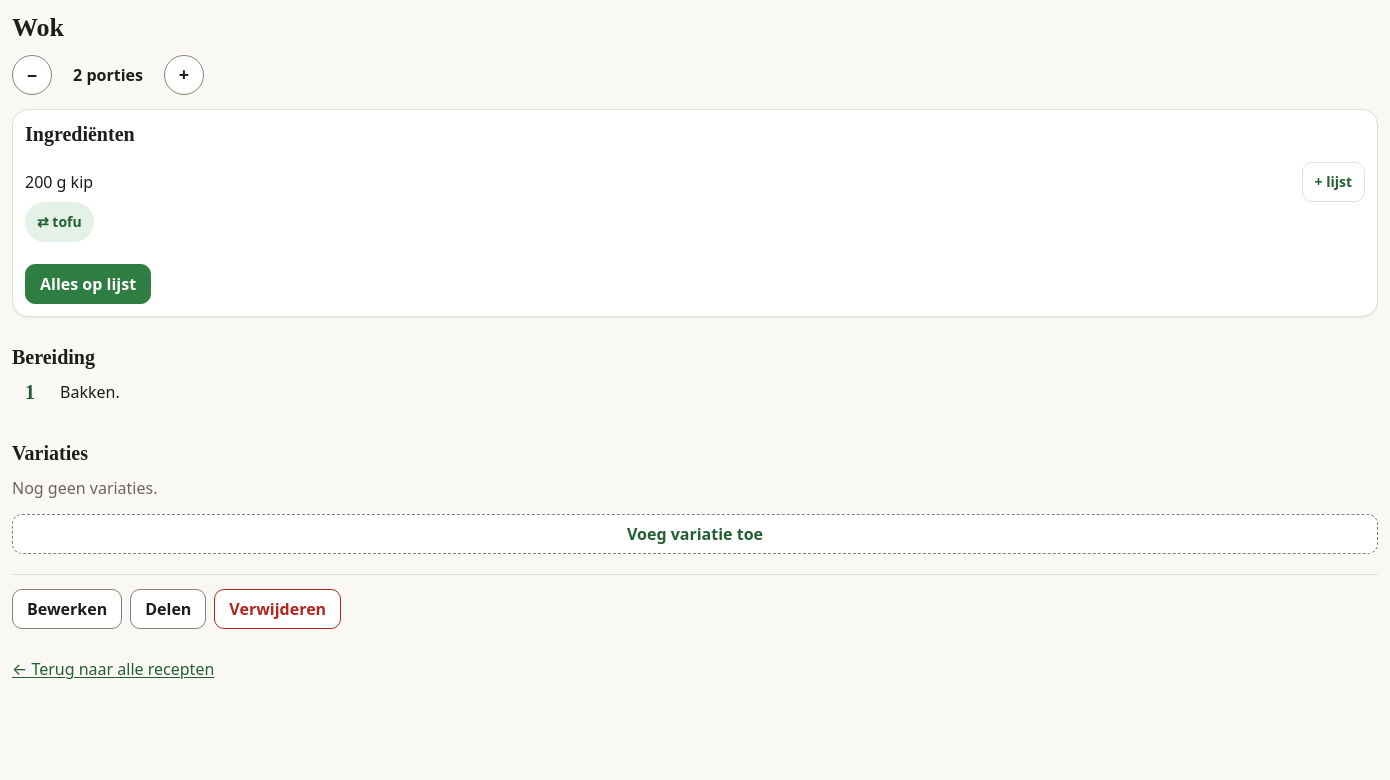
Scenario: RecipeDetailView: delen › meldt het als ook kopiëren niet lukt
Click the button with class "share" at (168, 609), box [130,589,206,629]
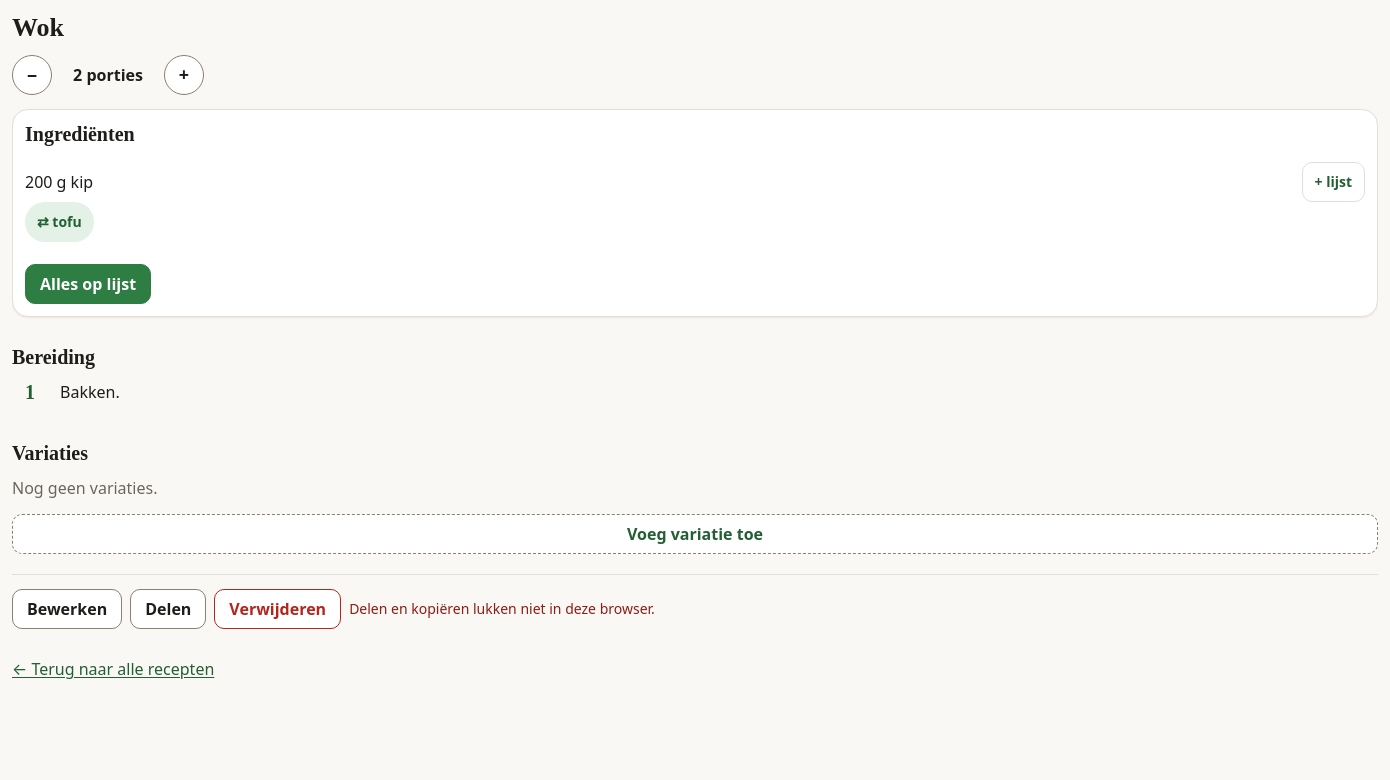
Expected: the message "Delen en kopiëren lukken niet in deze browser." is shown, [349,599,655,620]
